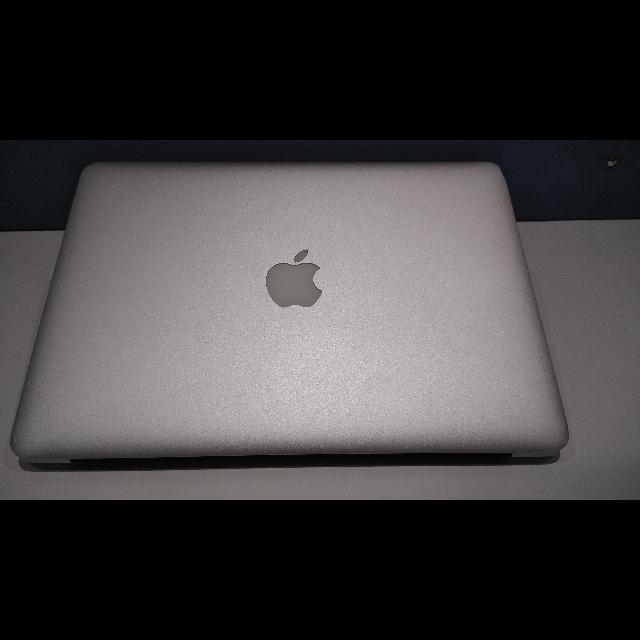Laptop: (8, 145, 576, 477)
